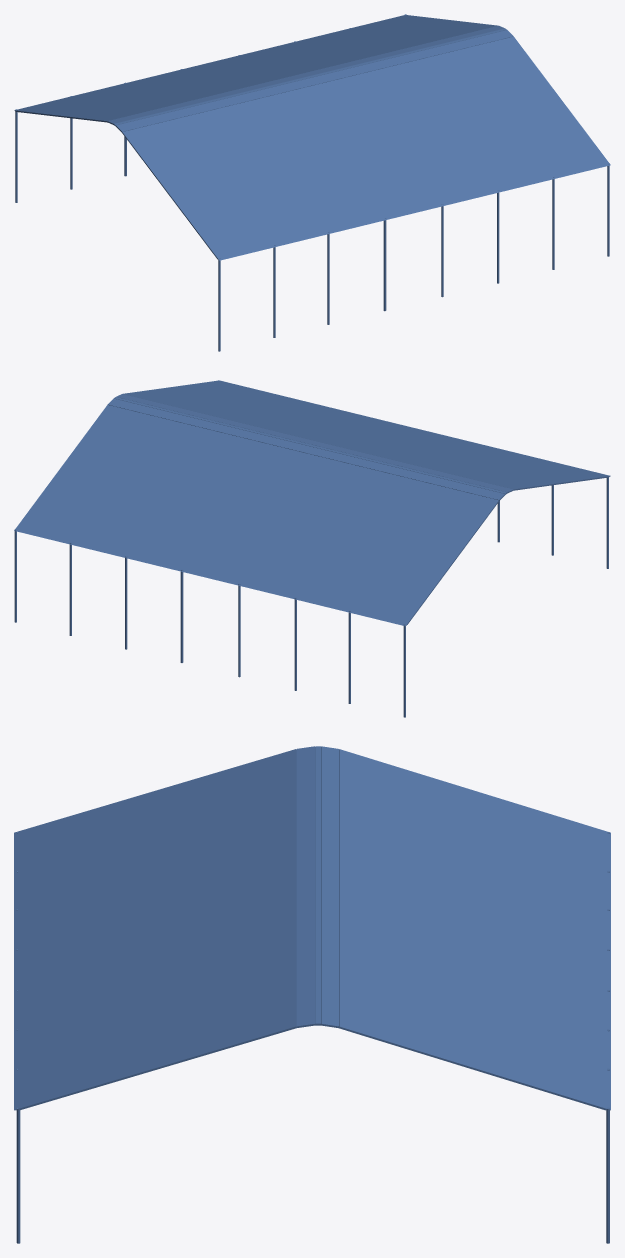
Rendered from vehicle-canopy.gltf.
3 views of the same model, one above another, from view 1: azimuth 30°, elevation 25°; view 2: azimuth 150°, elevation 25°; view 3: azimuth 270°, elevation 25° (orthographic). The views are drawn at different scales.
Visible parts, largest first — view 1: base; view 2: base; view 3: base.
Part boxes in pixels (x1,y1,x2,y2): base: [14, 14, 610, 351]; base: [14, 380, 610, 717]; base: [14, 746, 610, 1243].
Size of what is drawn, in the model's own units: 0.1115 by 0.0412 by 0.1013.
